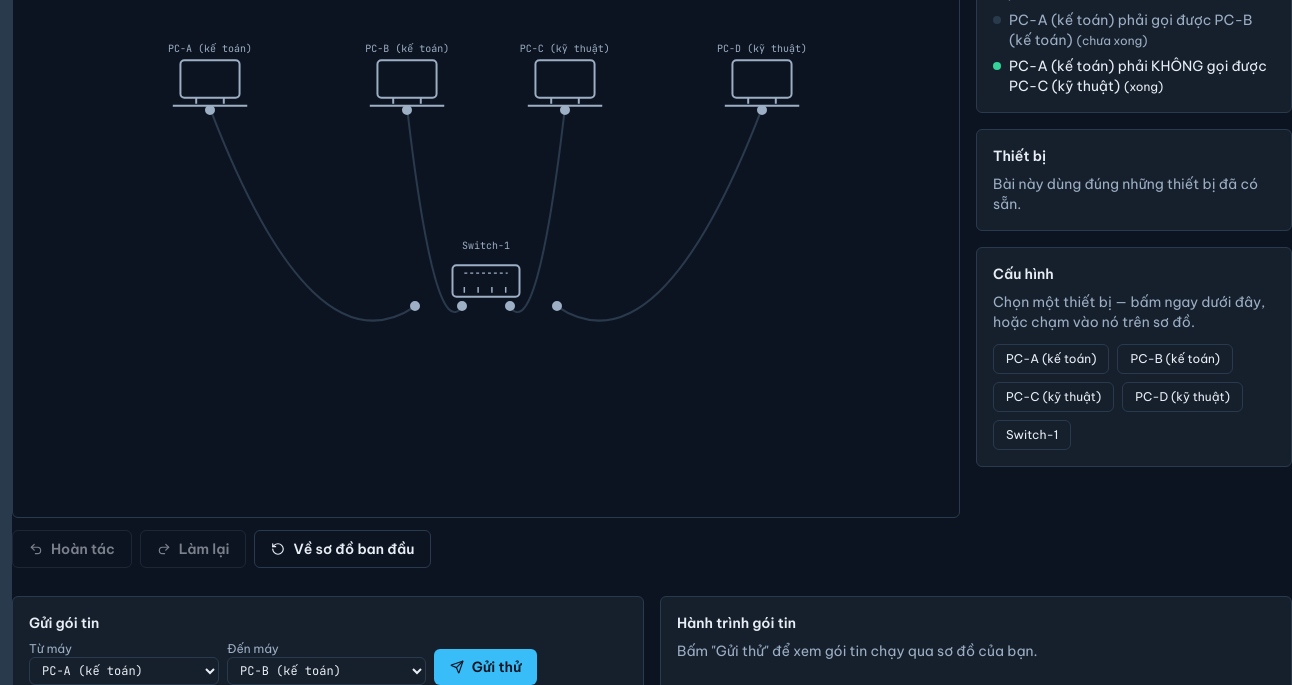
gửi gói tin › nói rõ bệnh gì bằng lời người, không phải mã lỗi
Click the button "Gửi thử": (486, 667) [434,649,537,684]
(page scrolled)
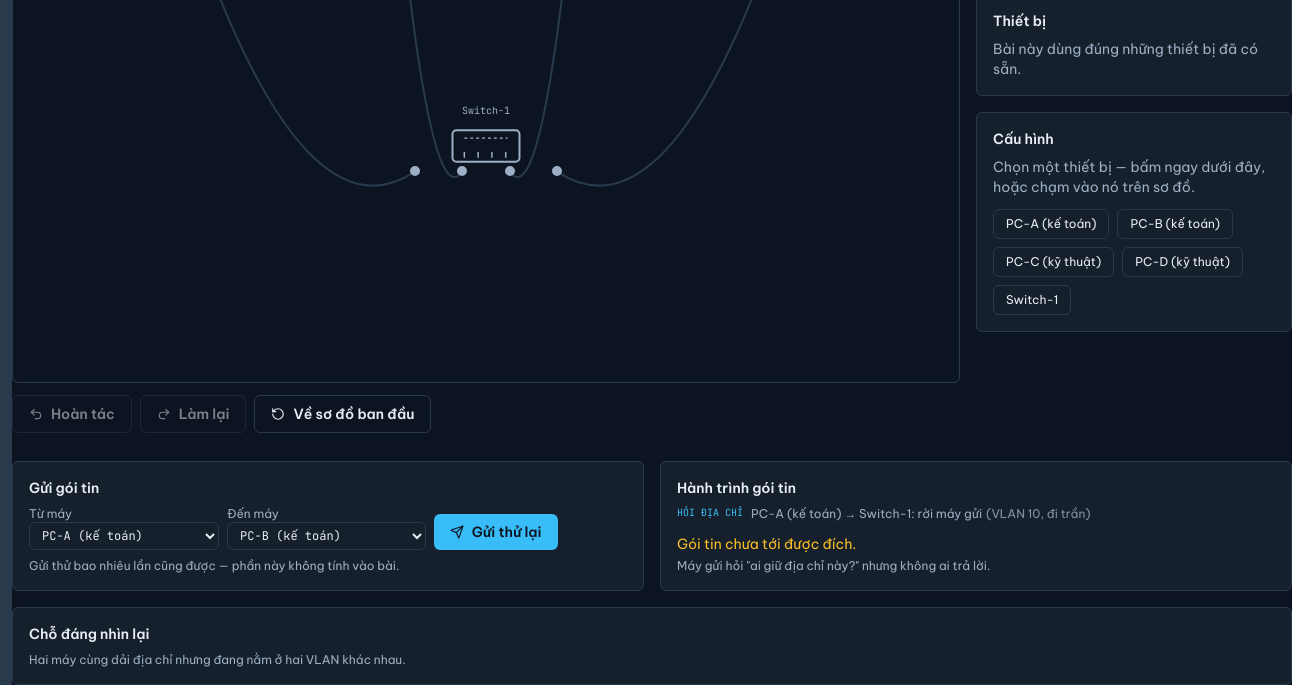
Result: the text "Máy gửi hỏi \"ai giữ địa chỉ này?\" nhưng không ai trả lời." is shown at [677,558,990,573]
